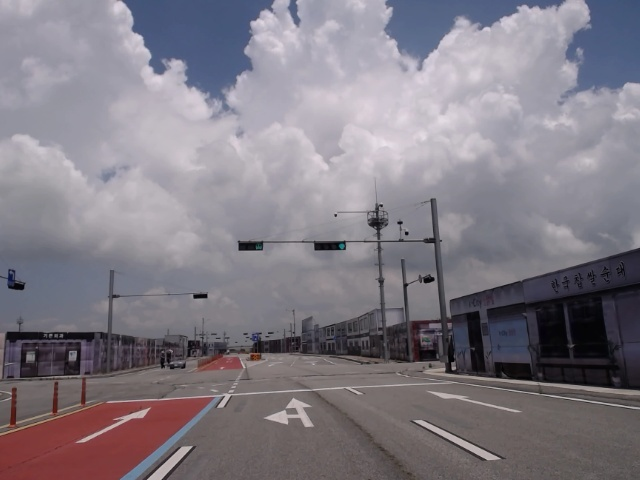straight_green_4: (314, 241, 347, 250)
